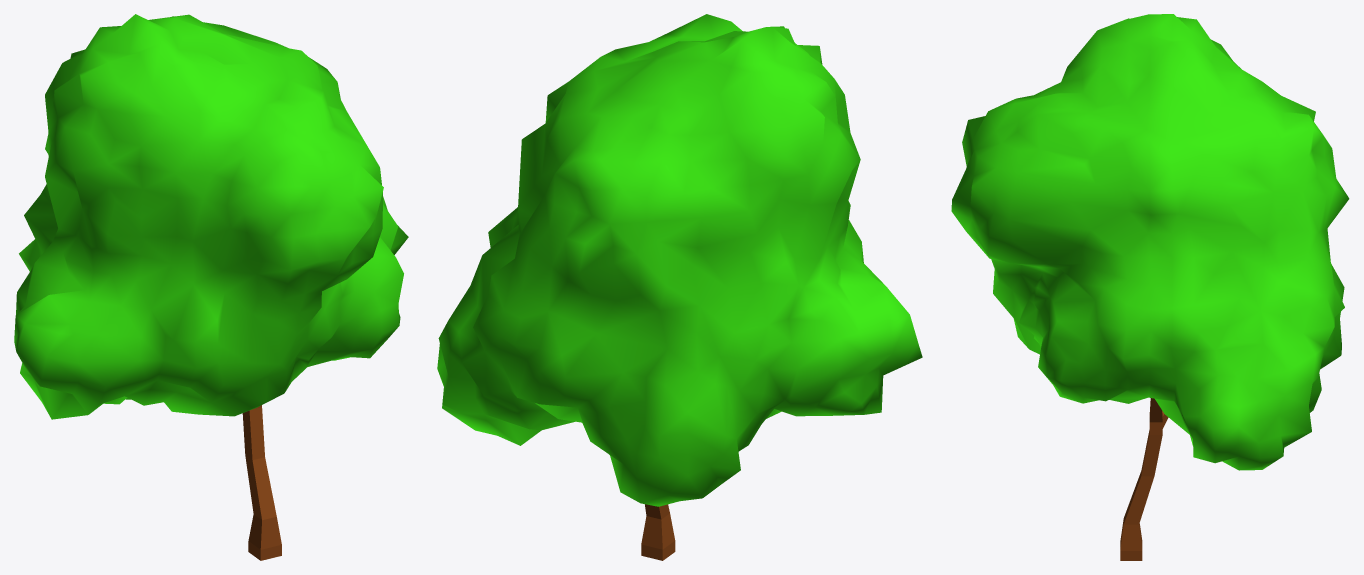
The model's file is SM_AppleTree_002.fbx.
The picture shows the model from 3 angles, left to right: view 1: azimuth 30°, elevation 25°; view 2: azimuth 150°, elevation 25°; view 3: azimuth 270°, elevation 25°; orthographic projection. The views are drawn at different scales.
Parts seen in each view (by area): view 1: AppleTree_02; view 2: AppleTree_02; view 3: AppleTree_02.
Part boxes in pixels (x1,y1,x2,y2): AppleTree_02: (14,14,408,560); AppleTree_02: (437,14,922,560); AppleTree_02: (951,14,1349,560).
Size of the model in its own units: 442 by 559 by 407.
